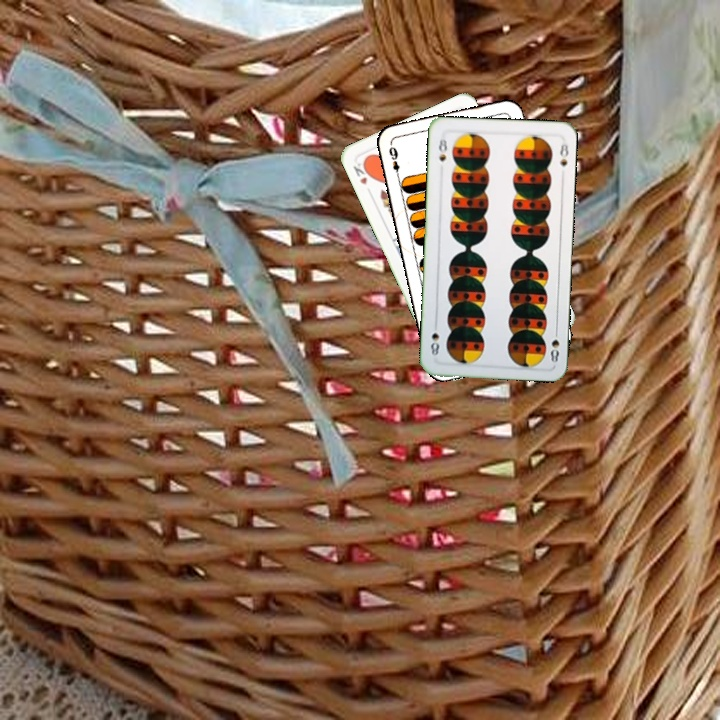E9: (385, 143, 402, 181)
HK: (349, 158, 374, 188)
S8: (546, 325, 562, 364), (434, 135, 450, 164)
